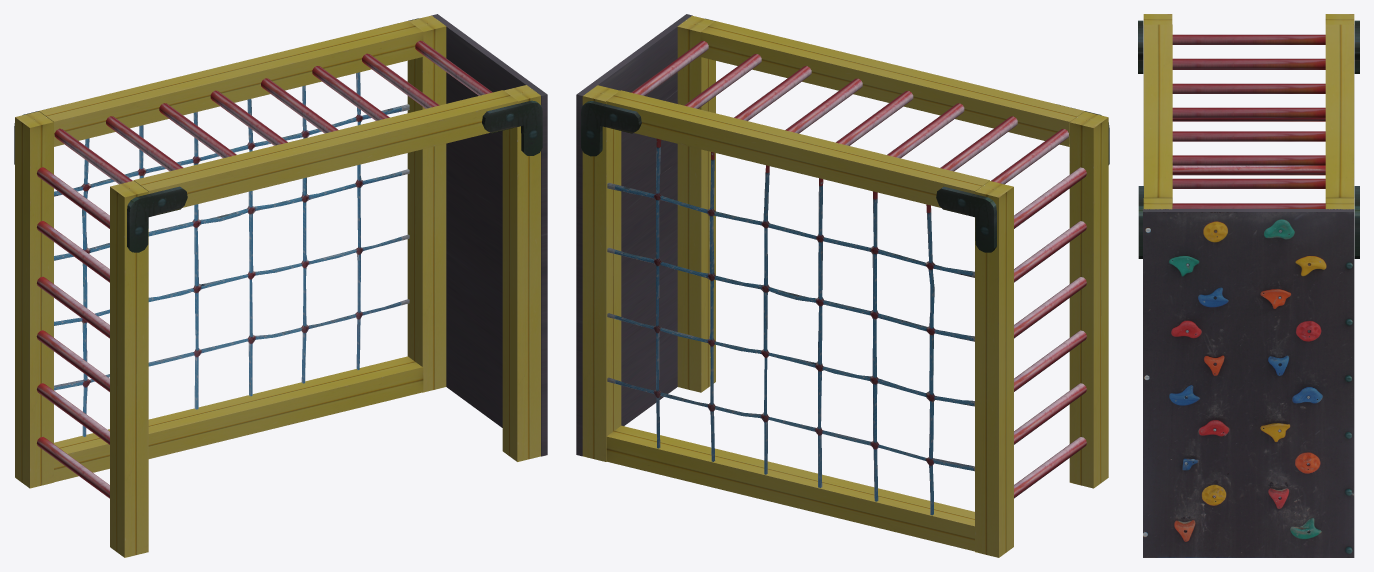
The model's file is kid1.FBX.
3 renders of one model, left to right at view 1: azimuth 30°, elevation 25°; view 2: azimuth 150°, elevation 25°; view 3: azimuth 270°, elevation 25°, orthographic. The views are drawn at different scales.
Parts seen in each view (by area): view 1: Box009; view 2: Box009; view 3: Box009.
Boxes of the visible parts, x1,y1,x2,y2 form: Box009: (14, 14, 547, 557); Box009: (576, 14, 1109, 557); Box009: (1138, 14, 1359, 557).
Bounding box in the file's own units: 124 × 101 × 58.54.
